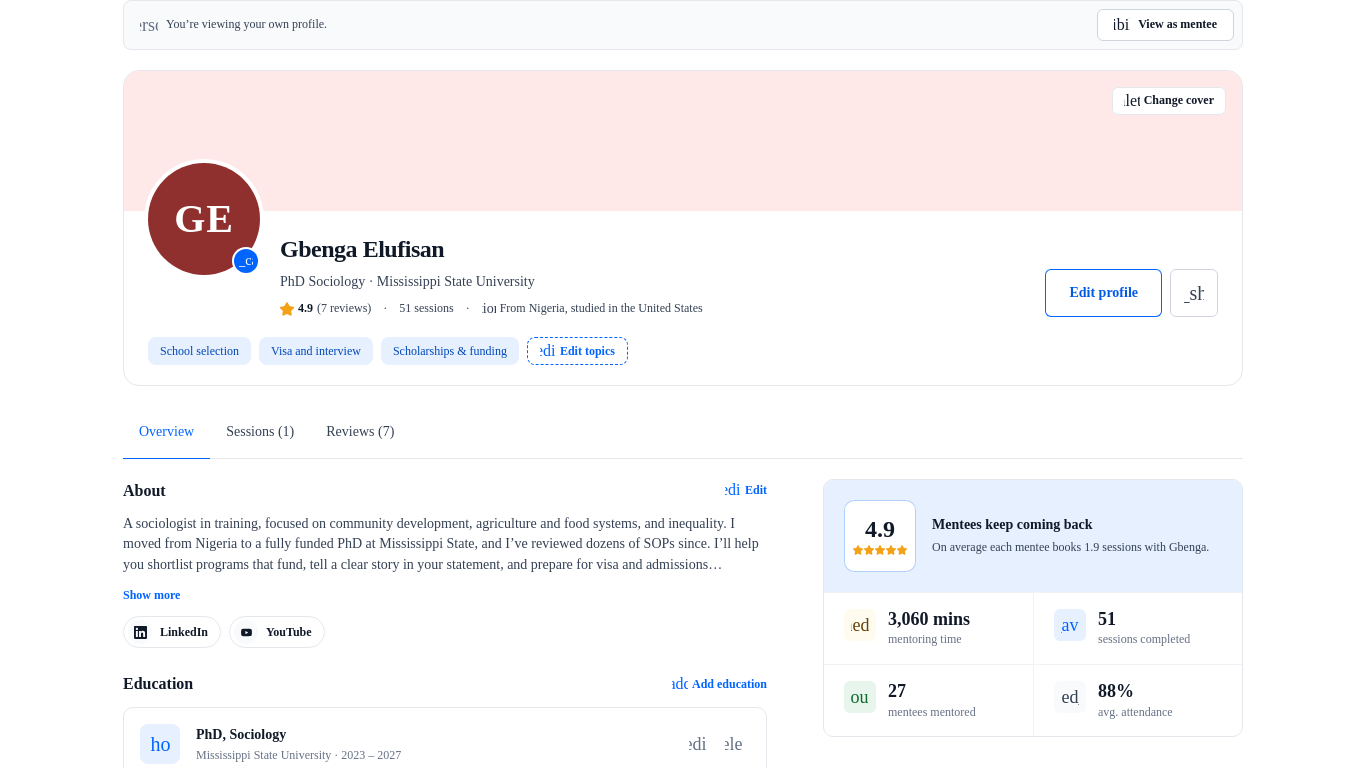
Test: MentorProfileScreen — the owner’s topics › opens with their topics chosen; Save sends the ids, closes, says so, and returns focus
The width and height of the screenshot is (1366, 768).
Click the button "edit Edit topics": coordinates (577, 352) x1=527 y1=338 x2=628 y2=366
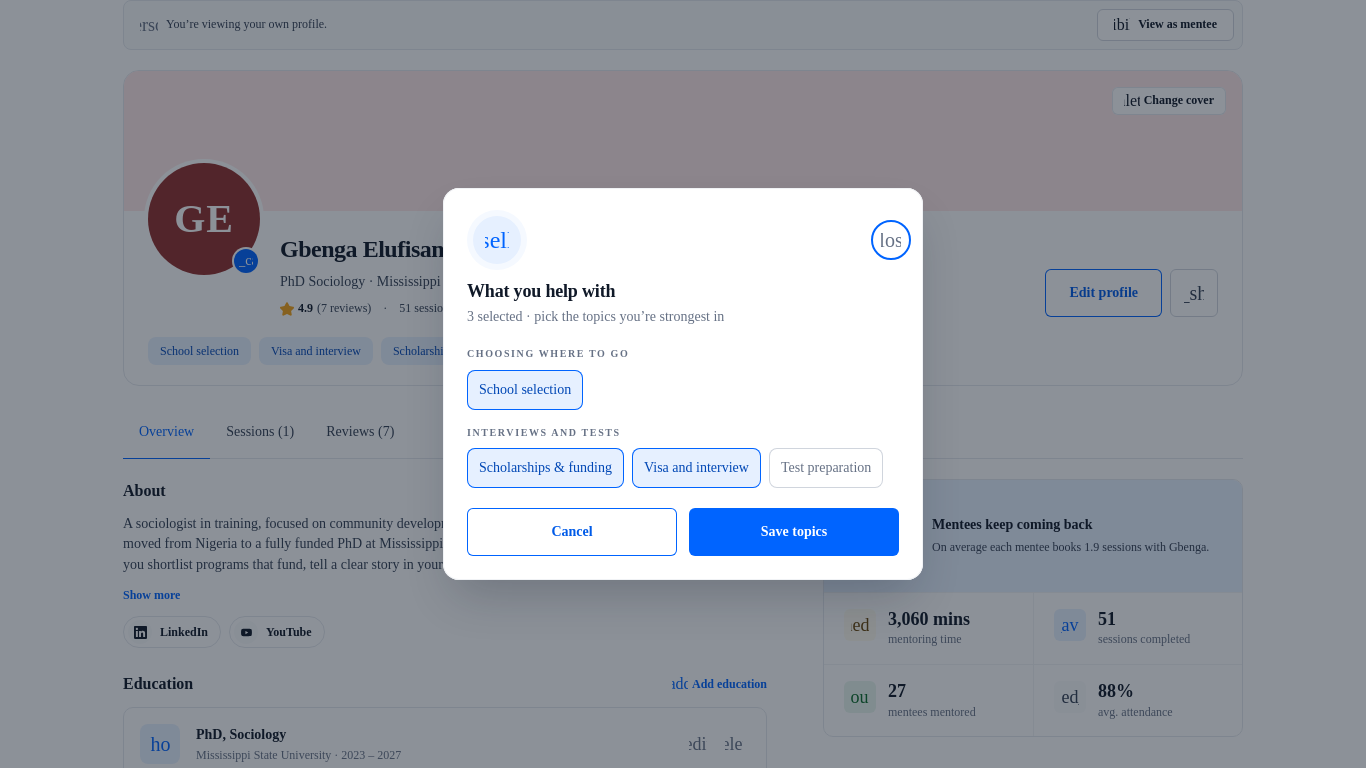
Click the button "Test preparation": coordinates (826, 468) x1=769 y1=448 x2=883 y2=488
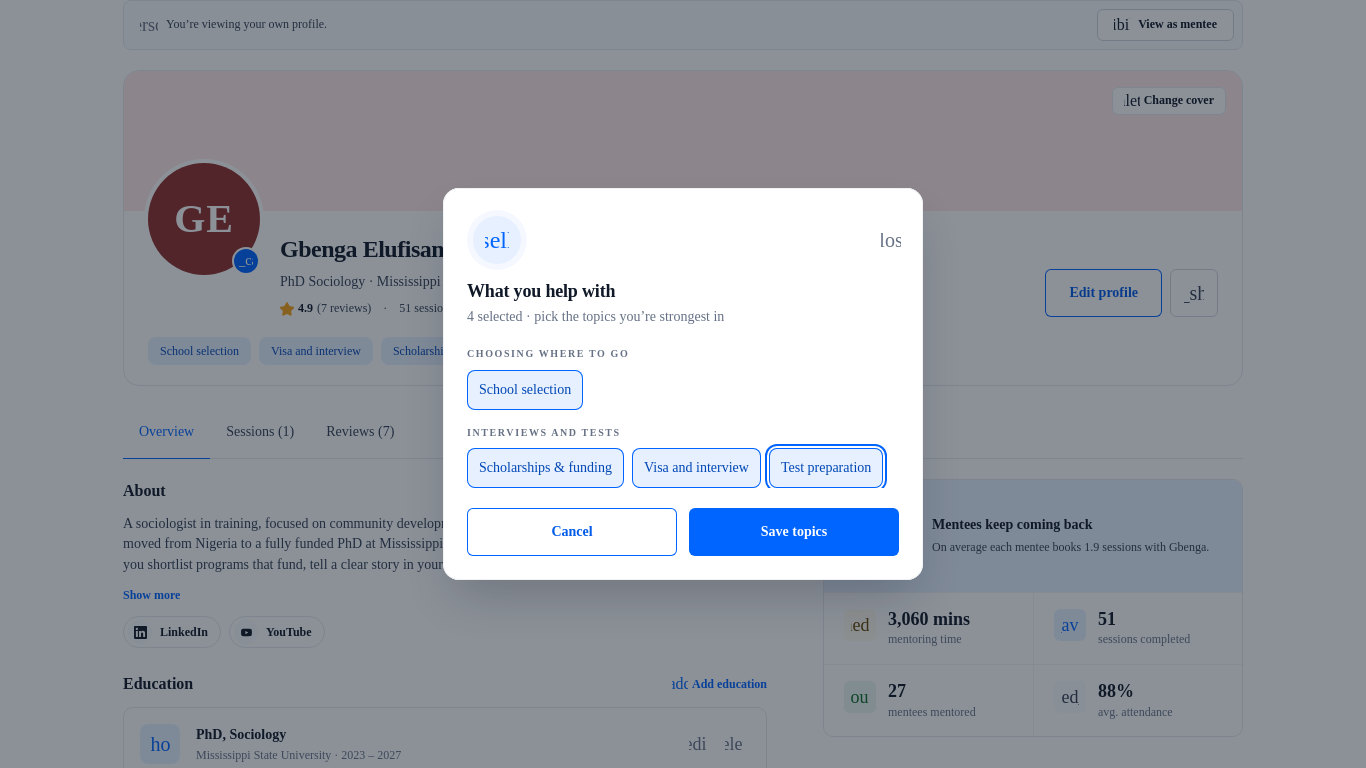
Click the button "Save topics": coordinates (794, 532) x1=689 y1=508 x2=899 y2=556
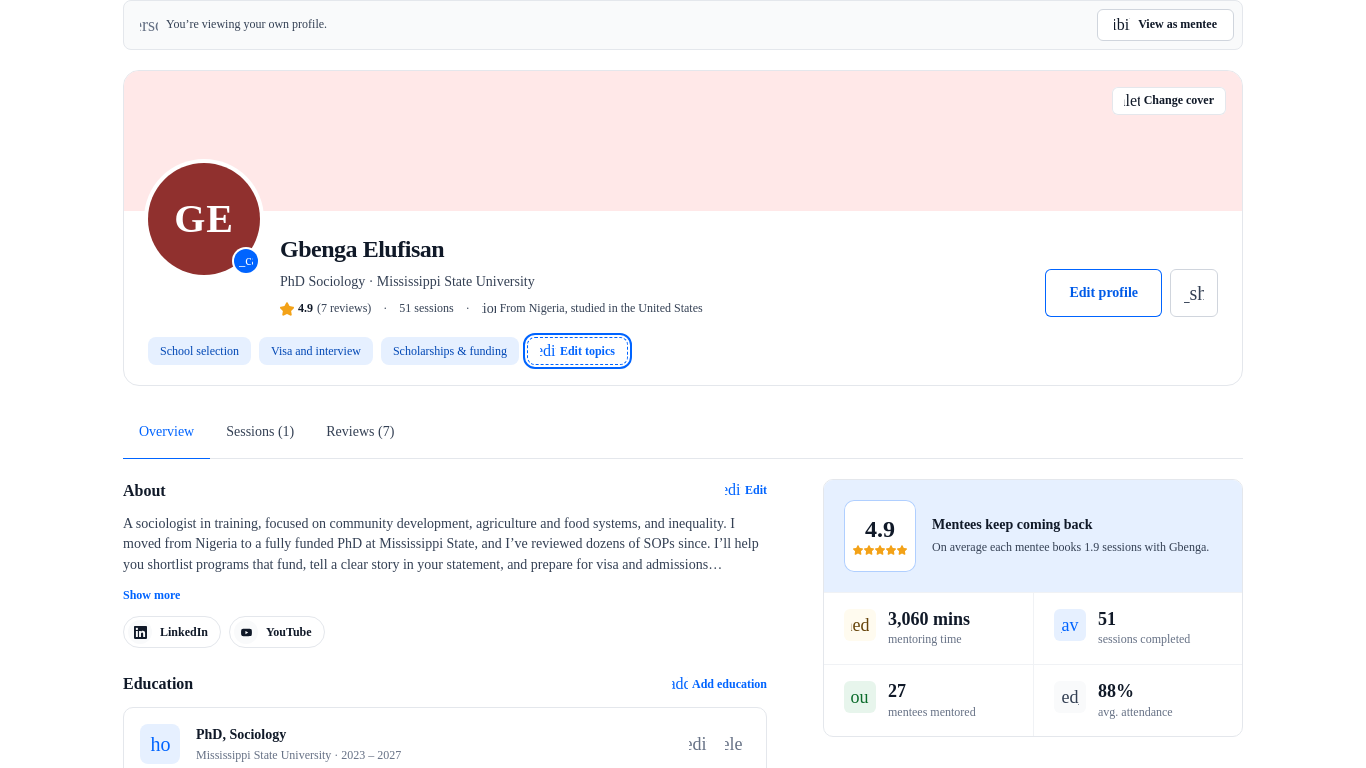
Expected: the dialog is gone
